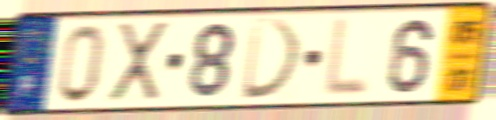0: (54, 21, 108, 107)
6: (386, 15, 436, 97)
8: (185, 19, 238, 102)
D: (239, 17, 306, 103)
L: (319, 14, 372, 100)
X: (107, 19, 171, 106)
